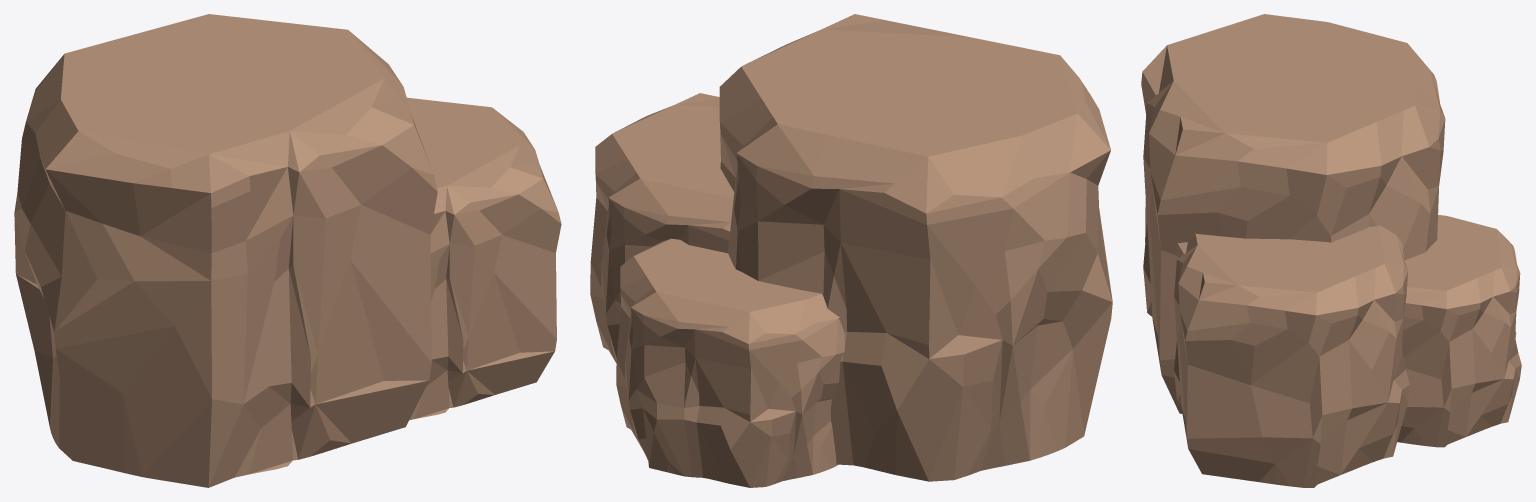
The model's file is light_big_rock.fbx.
3 renders of one model, left to right at view 1: azimuth 30°, elevation 25°; view 2: azimuth 150°, elevation 25°; view 3: azimuth 270°, elevation 25°, orthographic. The views are drawn at different scales.
Parts seen in each view (by area): view 1: light_big_rock; view 2: light_big_rock; view 3: light_big_rock.
Part boxes in pixels (x1,y1,x2,y2): light_big_rock: (14,14,561,487); light_big_rock: (590,14,1112,487); light_big_rock: (1141,14,1521,487).
Bounding box in the file's own units: 30.25 × 19.15 × 23.25.
